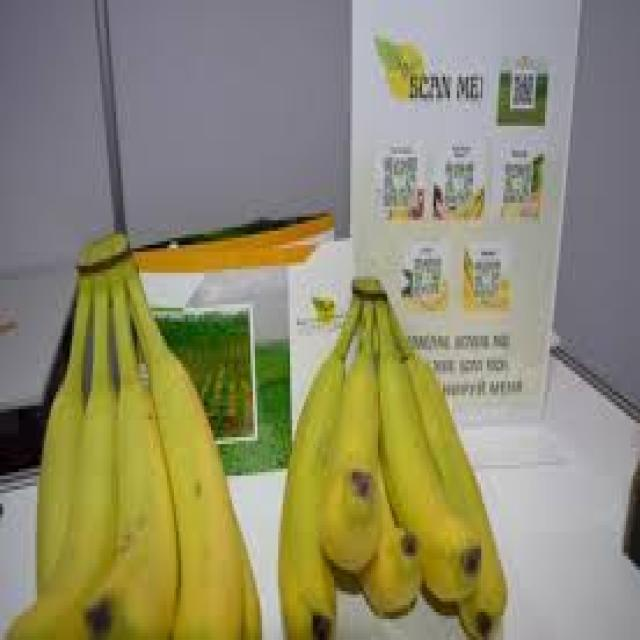banana: (5, 228, 262, 636), (276, 273, 508, 636)
